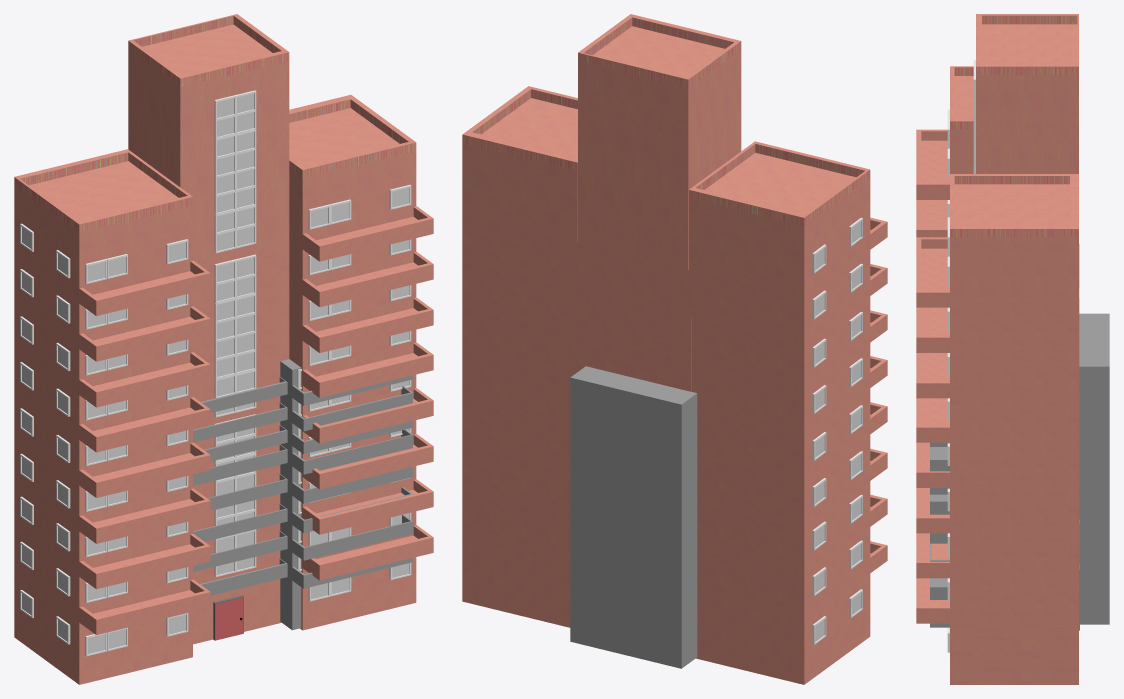
Rendered from Building_10_VAL.fbx.
3 renders of one model, left to right at view 1: azimuth 30°, elevation 25°; view 2: azimuth 150°, elevation 25°; view 3: azimuth 270°, elevation 25°, orthographic. The views are drawn at different scales.
Parts seen in each view (by area): view 1: pCube3 (×16), balcony (×16), pCube4, pCube1 (×2), pCube2 (×3), pCube5, pCube6, doors, pCube9, pCube8, pCube10, pCube7; view 2: pCube3 (×17), pCube1, pCube4, pCube2 (×2), pCube5, pCube6; view 3: pCube3 (×9), pCube4, balcony (×10), pCube1 (×2), pCube2.
Part boxes in pixels (x1,y1,x2,y2): pCube3 (×16): (14, 94, 416, 623); balcony (×16): (79, 206, 433, 634); pCube4: (128, 14, 289, 262); pCube1 (×2): (193, 359, 412, 630); pCube2 (×3): (14, 557, 416, 684); pCube5: (193, 286, 289, 354); pCube6: (193, 332, 289, 399); doors: (213, 595, 243, 640); pCube9: (193, 470, 280, 531); pCube8: (193, 379, 280, 444); pCube10: (193, 523, 280, 581); pCube7: (193, 424, 280, 490); pCube3 (×17): (462, 86, 870, 622); pCube1: (570, 366, 697, 668); pCube4: (578, 14, 741, 270); pCube2 (×2): (462, 539, 870, 684); pCube5: (576, 289, 691, 364); pCube6: (576, 336, 691, 391); pCube3 (×9): (950, 66, 1078, 624); pCube4: (976, 14, 1078, 173); balcony (×10): (916, 129, 949, 623); pCube1 (×2): (930, 313, 1109, 627); pCube2: (950, 624, 1078, 684).
Bounding box in the file's own units: 16.34 × 26.17 × 8.14.
